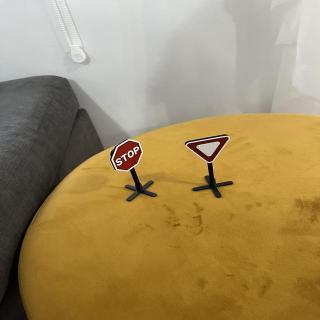sign_stop: (111, 139, 146, 174)
sign_yield: (185, 136, 235, 165)
